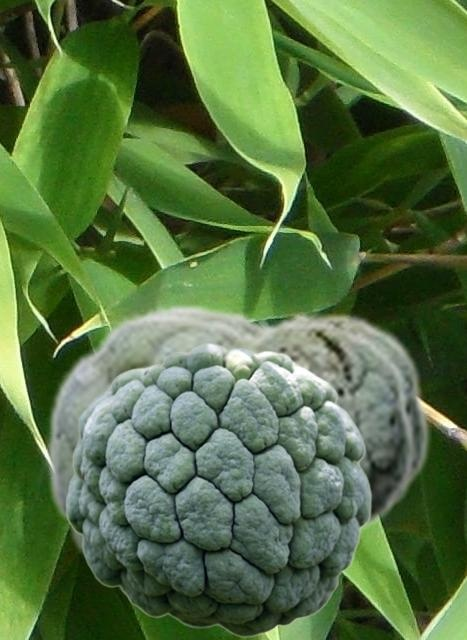atis: (45, 309, 416, 595), (65, 342, 371, 637), (138, 302, 430, 543)
